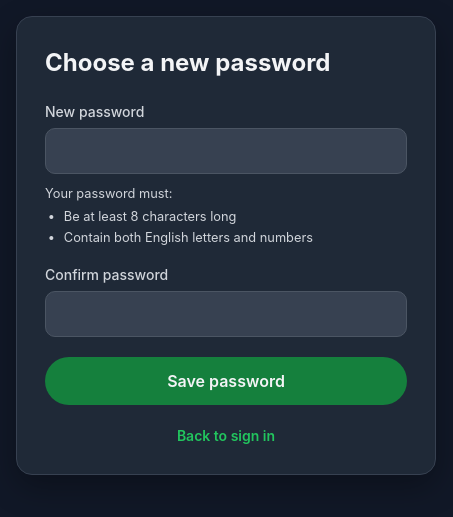
Test: ResetPasswordPage › checks both passwords match before sending
Type "BrandNew!567" into the password field labelled "New password" at [226, 151], box [45,128,407,174]
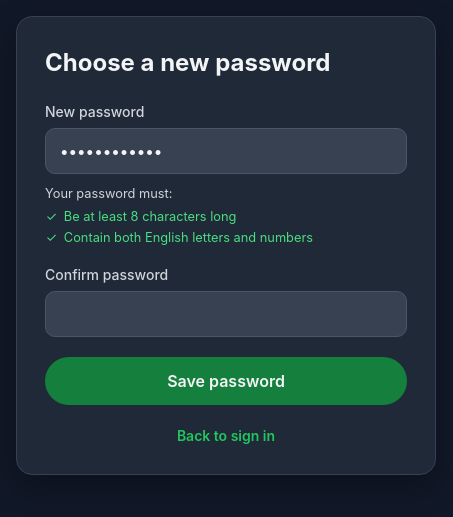
Type "Different!890" into the password field labelled "Confirm password" at [226, 314], box [45,291,407,337]
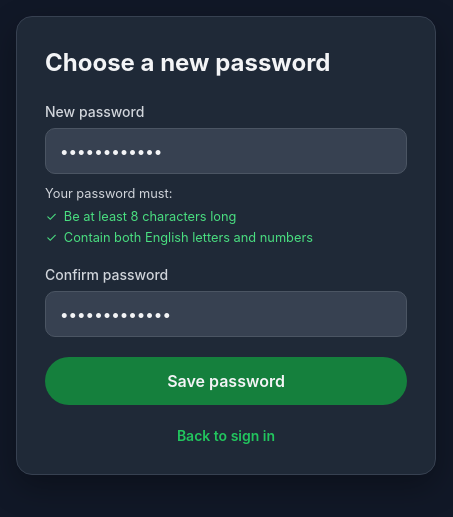
Click the button "Save password" at [226, 381], box [45,357,407,405]
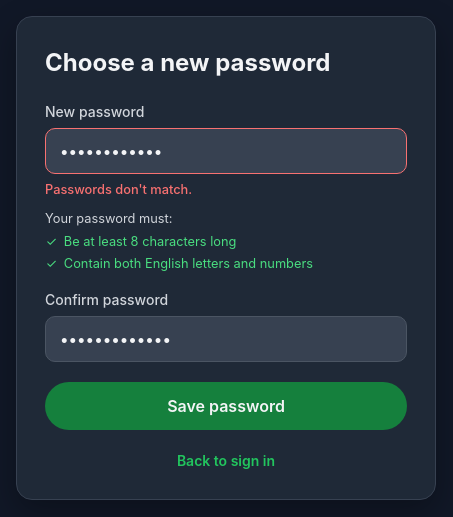
Check: the text "Passwords don't match." is shown, box [45,182,192,197]
